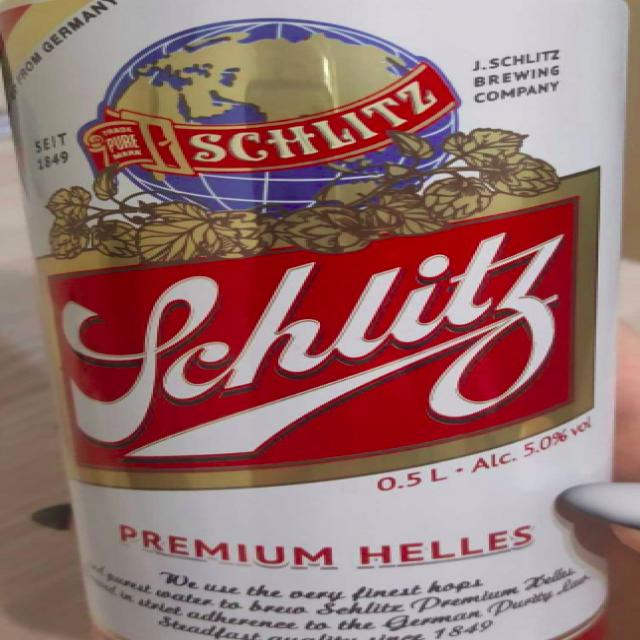Schlitz Helles: (2, 1, 640, 640)
